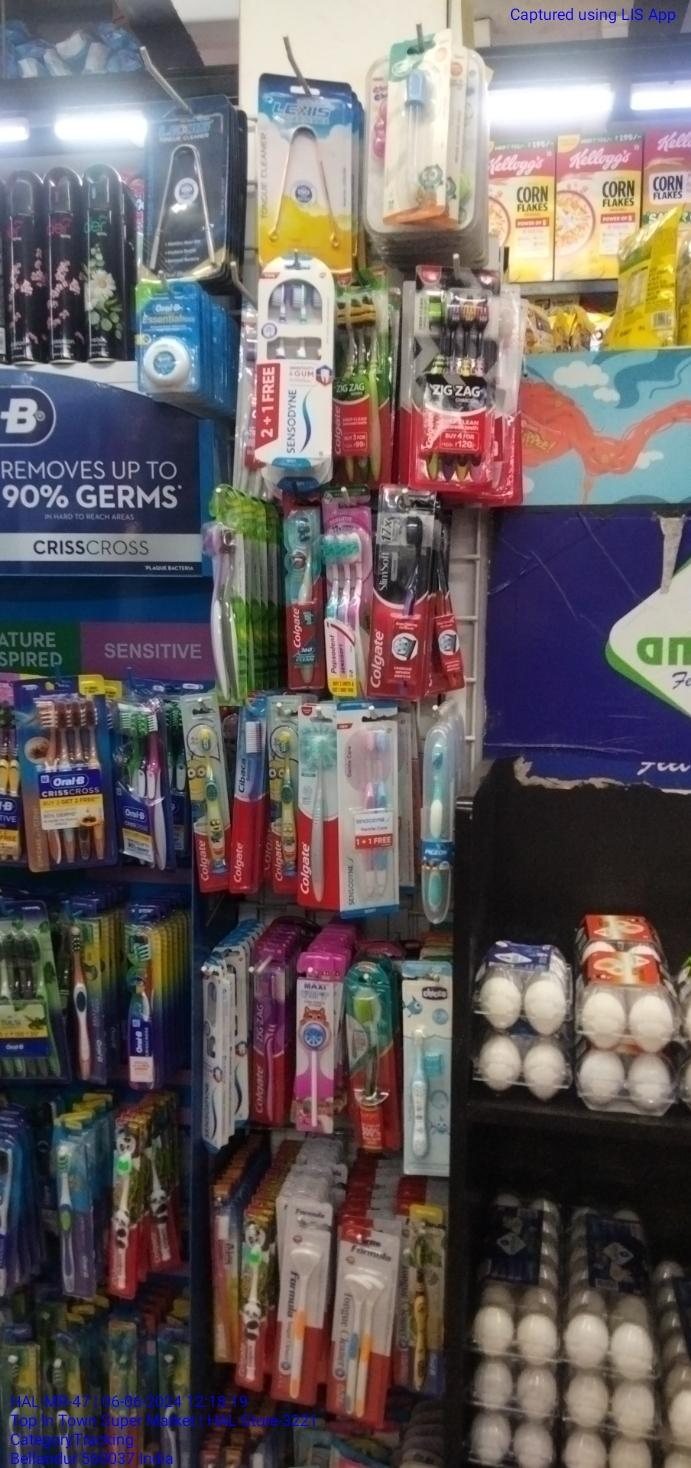13: (322, 489, 368, 701)
16: (249, 253, 339, 466)
7: (338, 712, 401, 918)
liquid soap: (402, 265, 504, 497)
soap: (376, 498, 428, 699)
